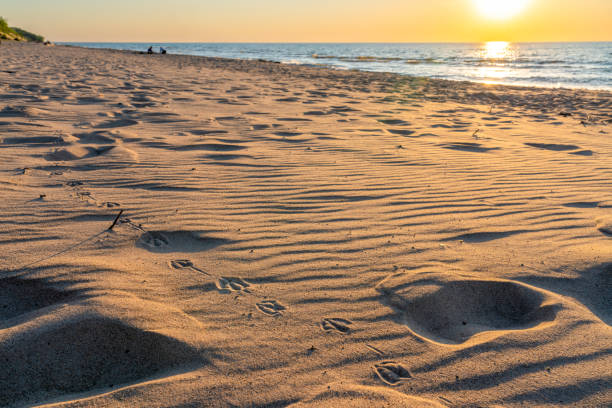animal_foot_print: (373, 361, 411, 385), (169, 259, 208, 274), (216, 277, 250, 293), (320, 318, 352, 333), (256, 300, 285, 315), (141, 231, 168, 247)
